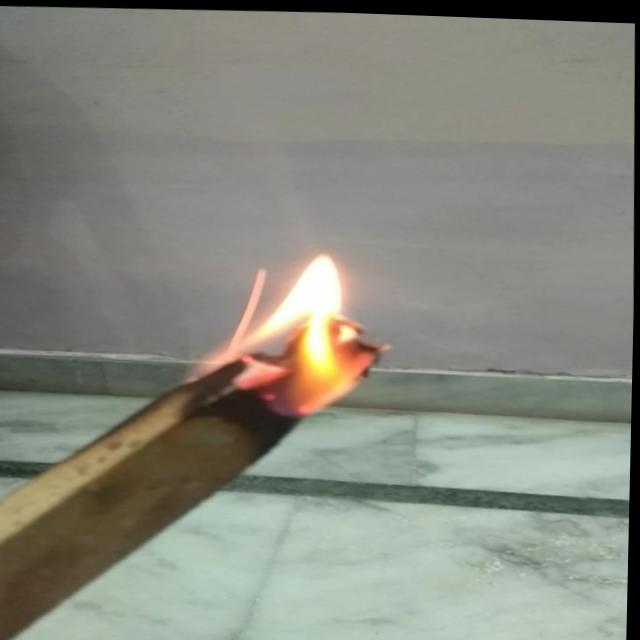fire: (197, 234, 410, 426)
